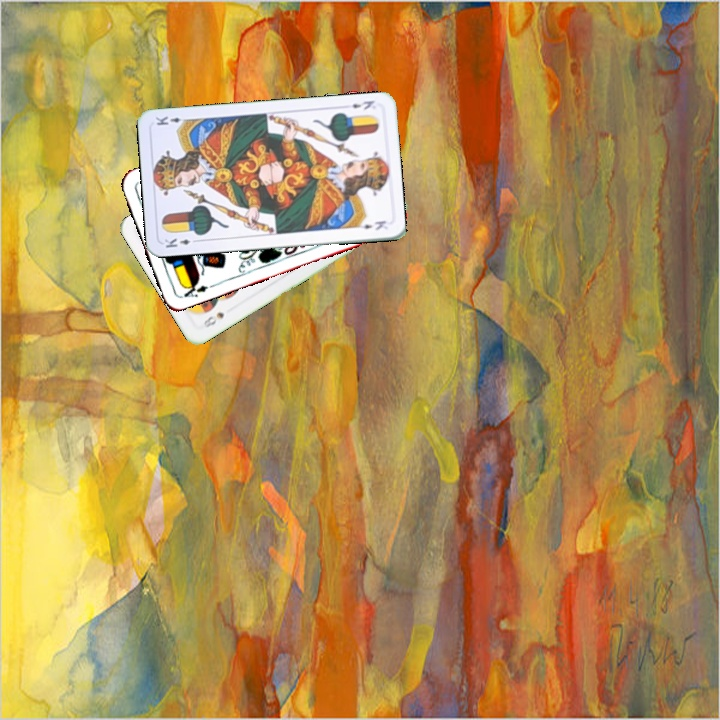EA: (179, 278, 216, 300)
EK: (161, 234, 201, 250), (348, 96, 377, 112)
S8: (199, 308, 227, 330)
